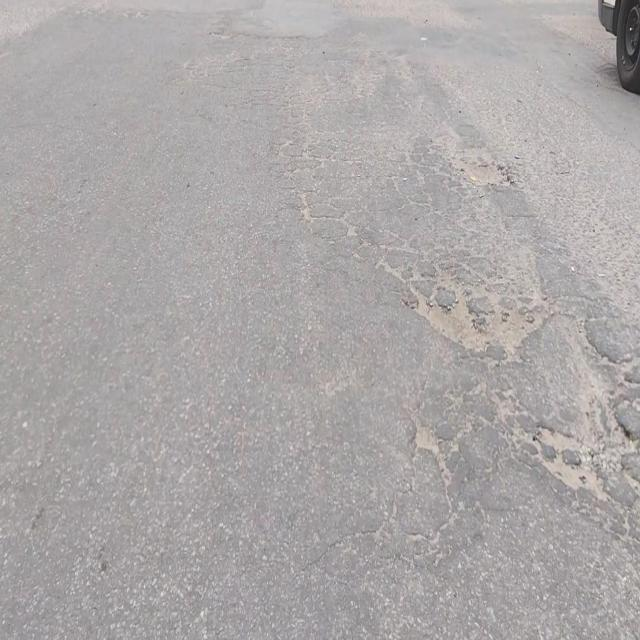Potholes: (528, 393, 640, 508), (411, 277, 553, 363), (463, 156, 515, 191)
